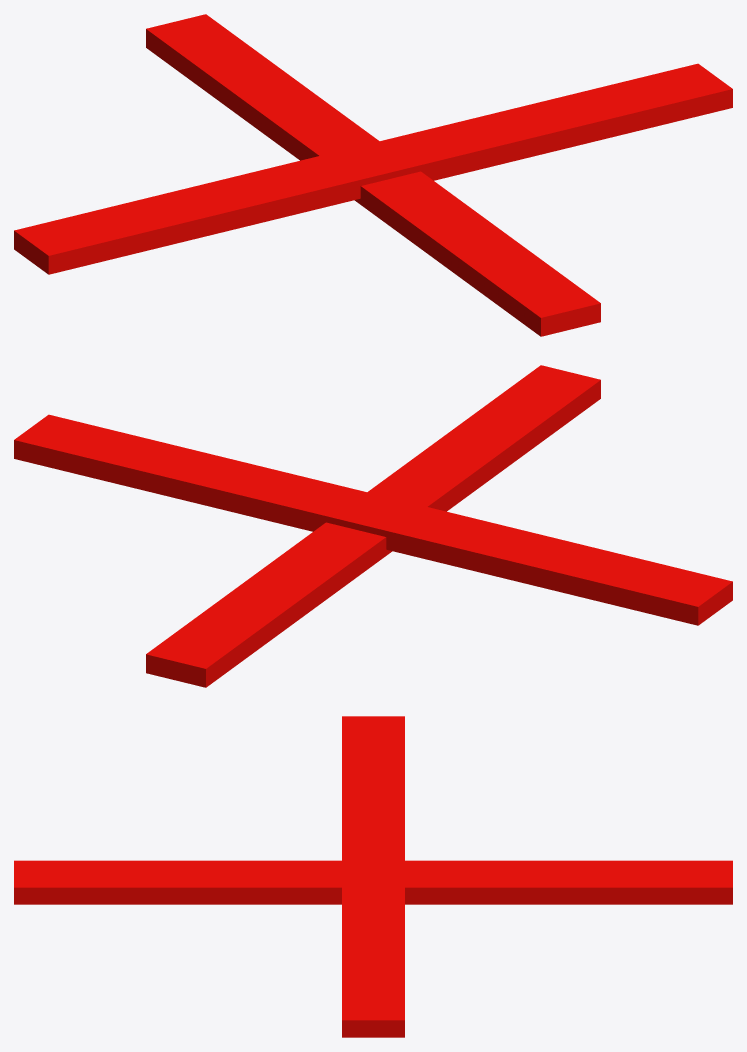
The picture shows the model from 3 angles, top to bottom: view 1: azimuth 30°, elevation 25°; view 2: azimuth 150°, elevation 25°; view 3: azimuth 270°, elevation 25°; orthographic projection. The views are drawn at different scales.
Visible parts, largest first — view 1: Cube; view 2: Cube; view 3: Cube.
Boxes of the visible parts, bbox=[...] form: Cube: bbox=[14, 14, 732, 336]; Cube: bbox=[14, 365, 732, 687]; Cube: bbox=[14, 716, 732, 1037].
Size of the model in its own units: 39.94 by 1.4 by 39.94.
